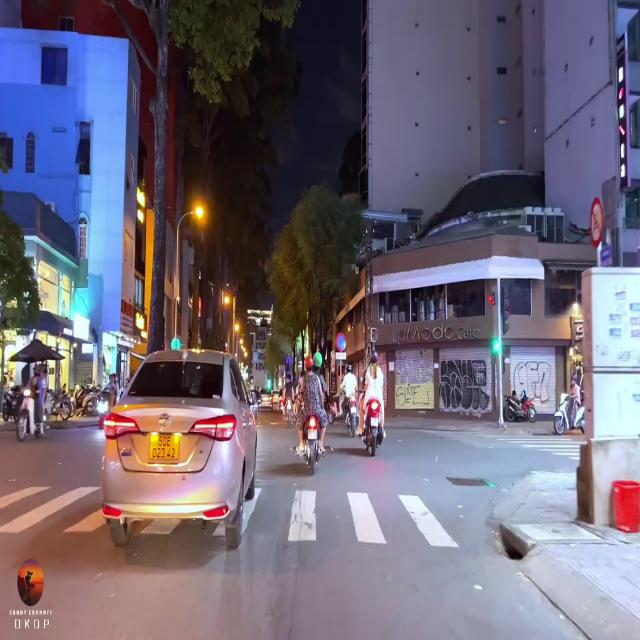bien_vang: (149, 432, 180, 463)
